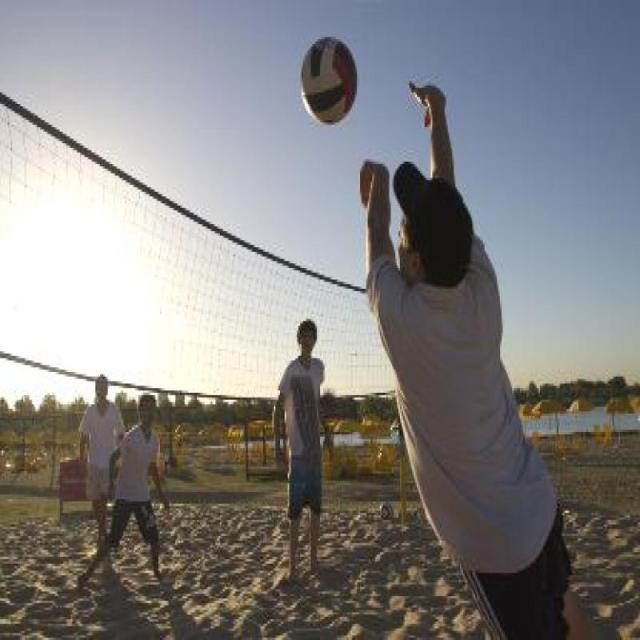volleyball: (298, 32, 357, 123)
